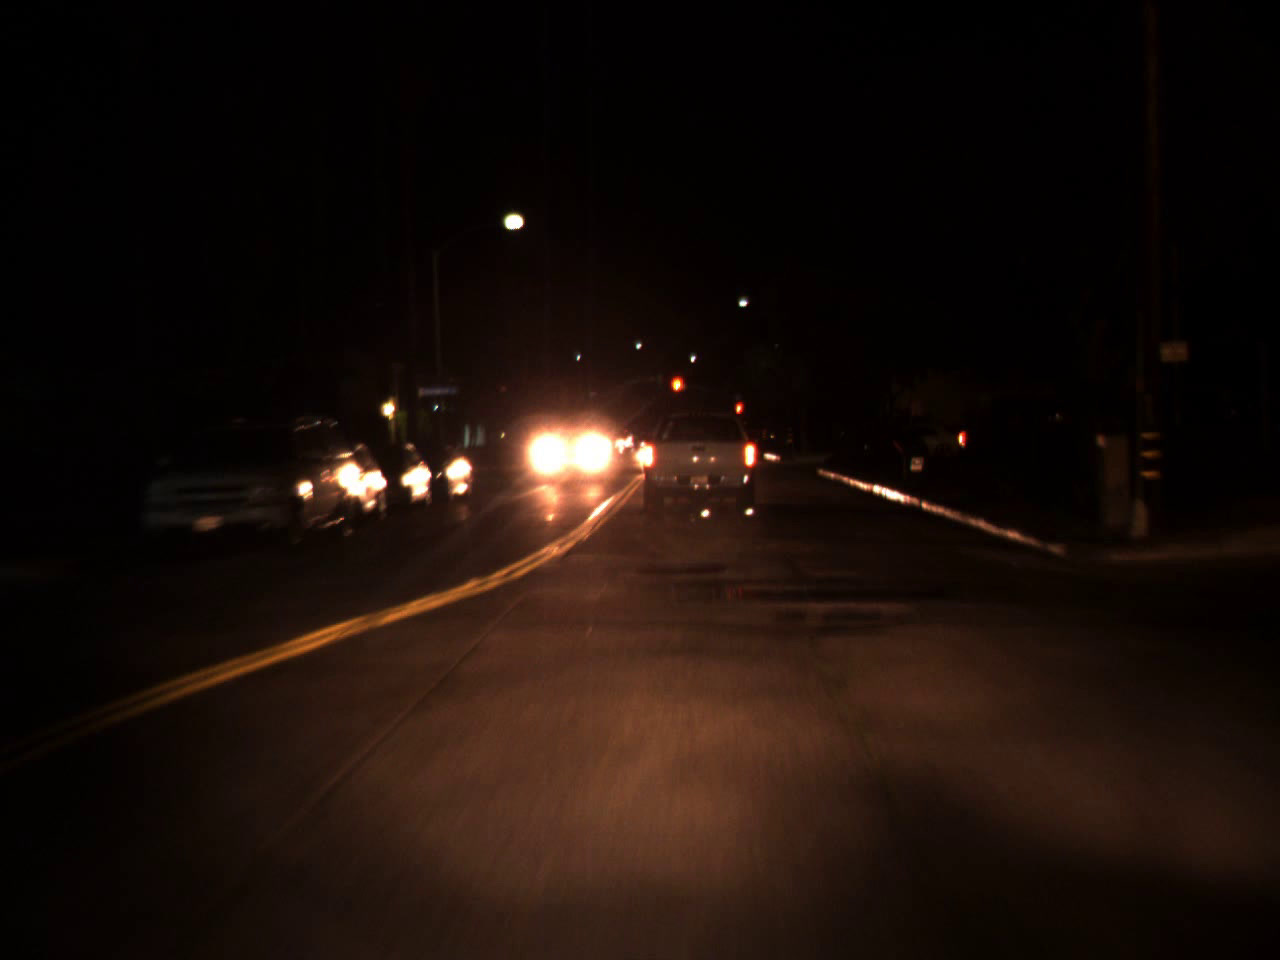stop: (669, 375, 685, 407), (734, 400, 744, 429)
